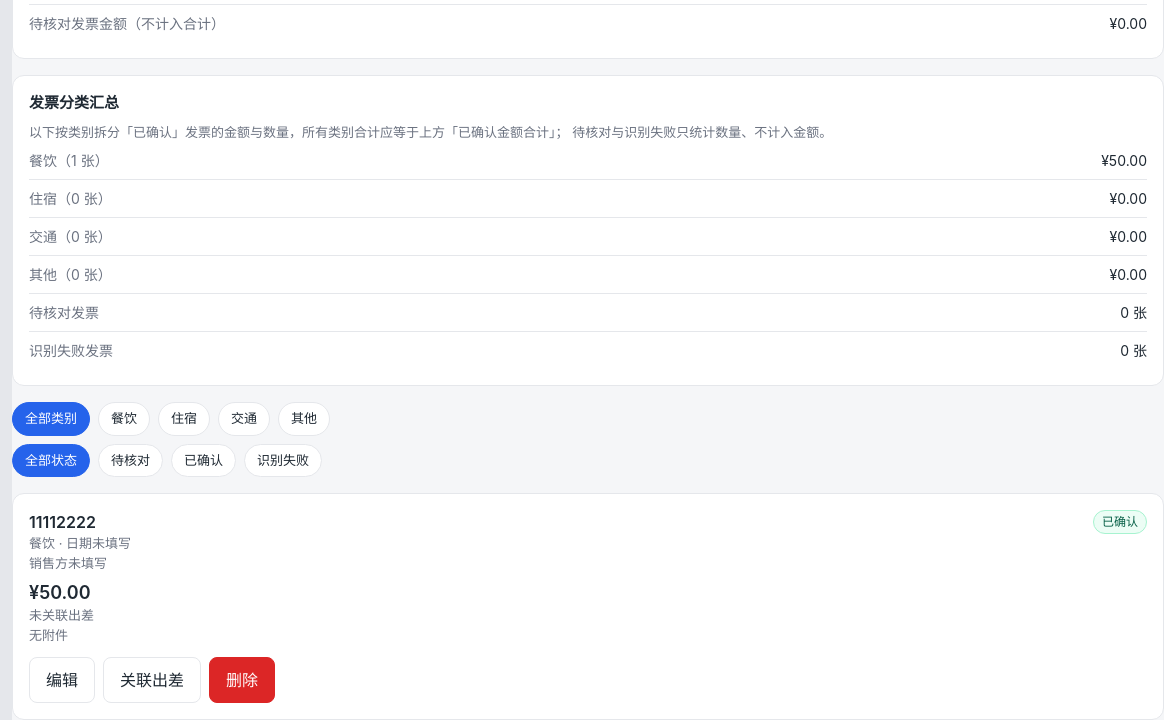
Test: 发票管理页 UI › 编辑已保存的发票并持久化修改
The image size is (1164, 720).
(page scrolled)
Expected: the text "11112222" is shown, x1=29 y1=510 x2=96 y2=534
Click the button "编辑" at (62, 680), box x1=29 y1=657 x2=95 y2=703
(page scrolled)
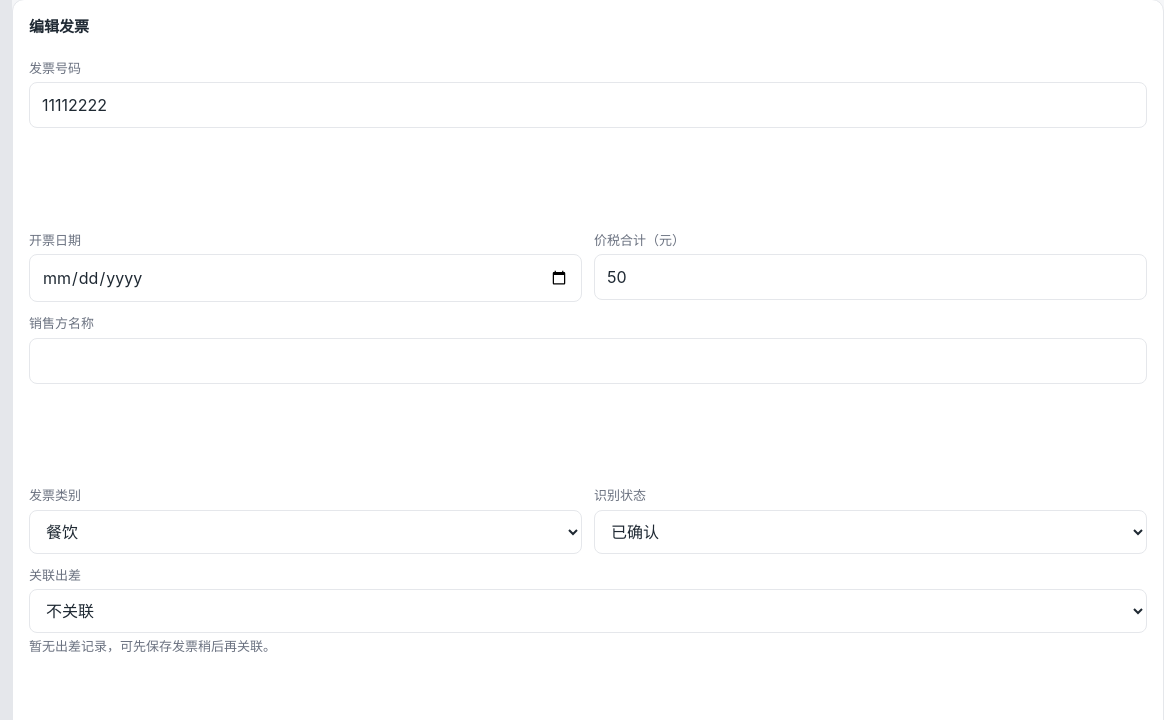
Now the heading "编辑发票" is shown, box x1=29 y1=17 x2=89 y2=36
Type "某某餐饮有限公司" into the field labelled "销售方名称" at (588, 360), box x1=29 y1=338 x2=1147 y2=384
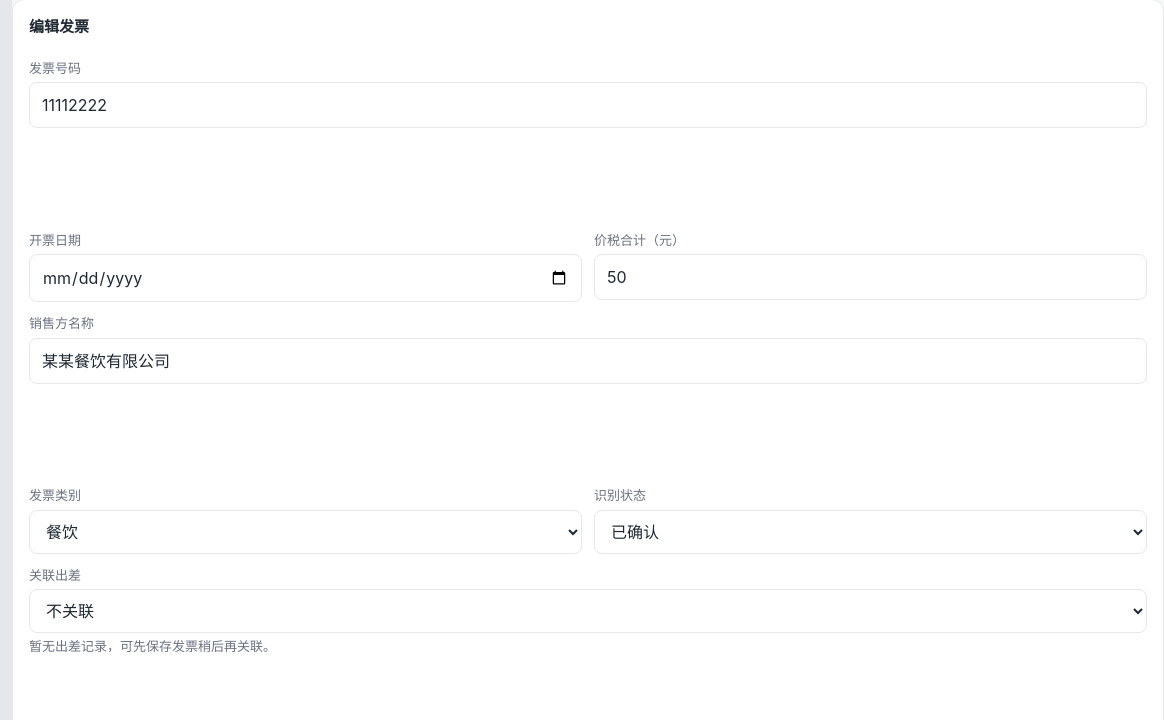
Replace the text in the field labelled "价税合计（元）" with "88.80" at (870, 277), box x1=594 y1=254 x2=1147 y2=300
(page scrolled)
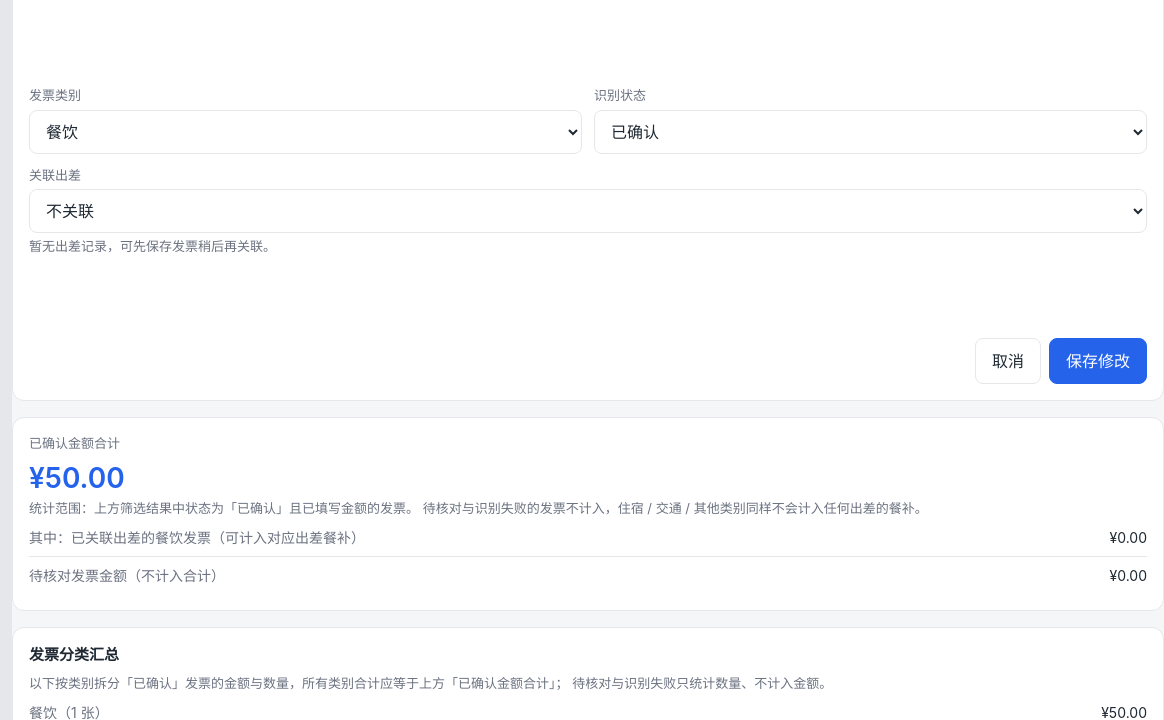
Click the button "保存修改" at (1098, 360), box x1=1049 y1=338 x2=1147 y2=384
(page scrolled)
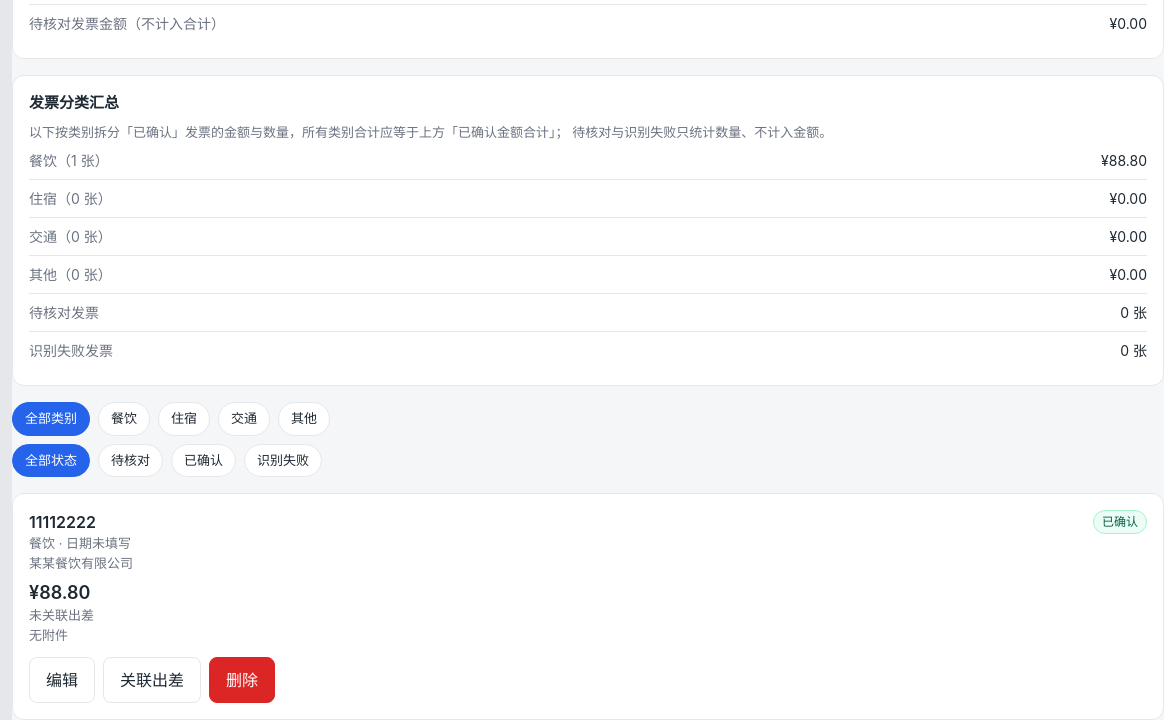
Now the text "某某餐饮有限公司" is shown, box x1=29 y1=554 x2=133 y2=570
